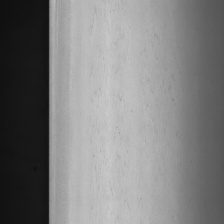silk_spot: (83, 4, 183, 219)
